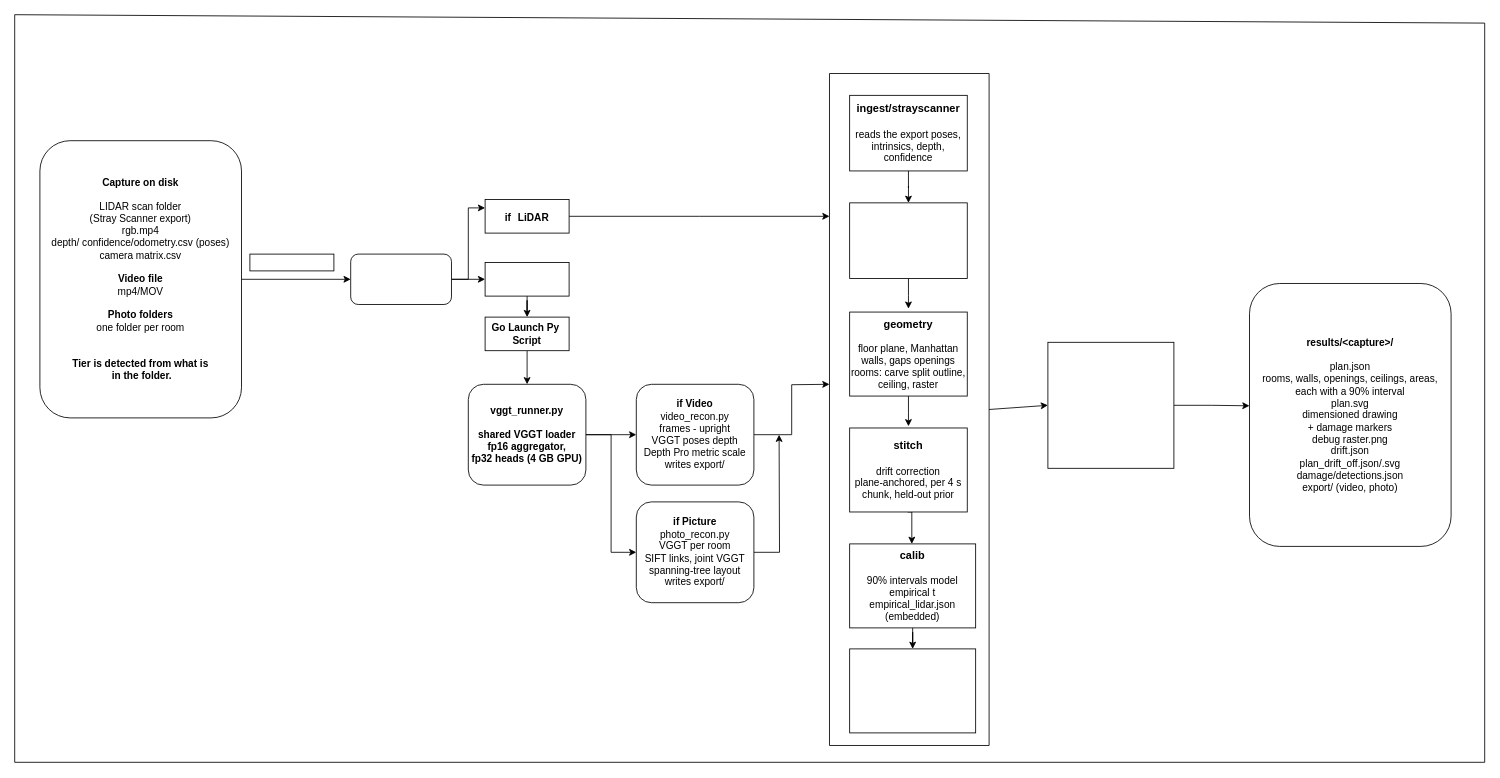
This 1500x778 diagram has some shape labels left out. The centre of each missing label's shape, as x and y in pixels:
"cmd/bench" goes at point (291, 262).
"damage place detections on wall/floor/ceiling concealed-damage rules" goes at point (912, 690).
"geometry/pointcloud voxel fusion integer sums ----> deterministic PLY export" goes at point (908, 240).
"if ! LiDAR" goes at point (526, 279).
"internal/pipeline" goes at point (401, 278).
"OUTPUT plan.json schema validation, plan.svg with damage markers" goes at point (1110, 404).
